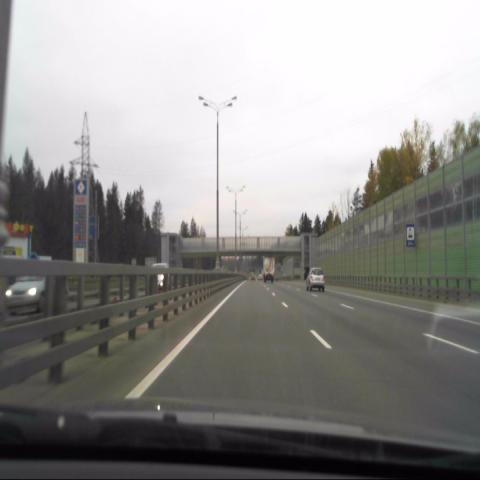7_5: (406, 224, 415, 247)
